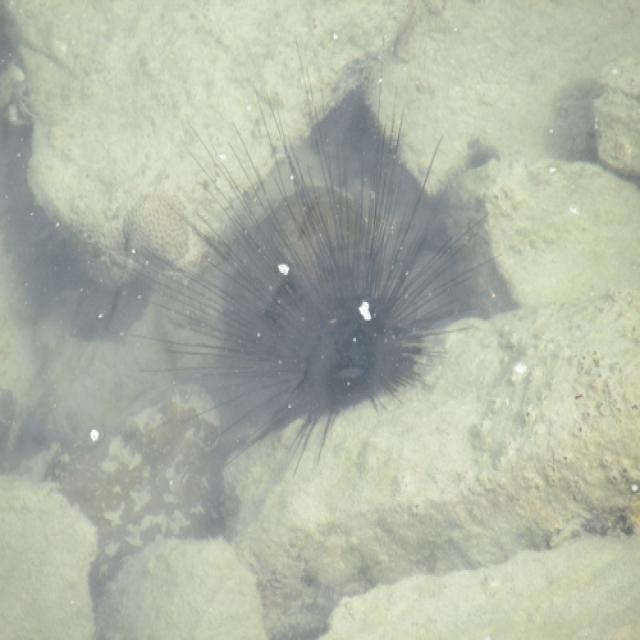Urchin: (123, 41, 494, 464)
